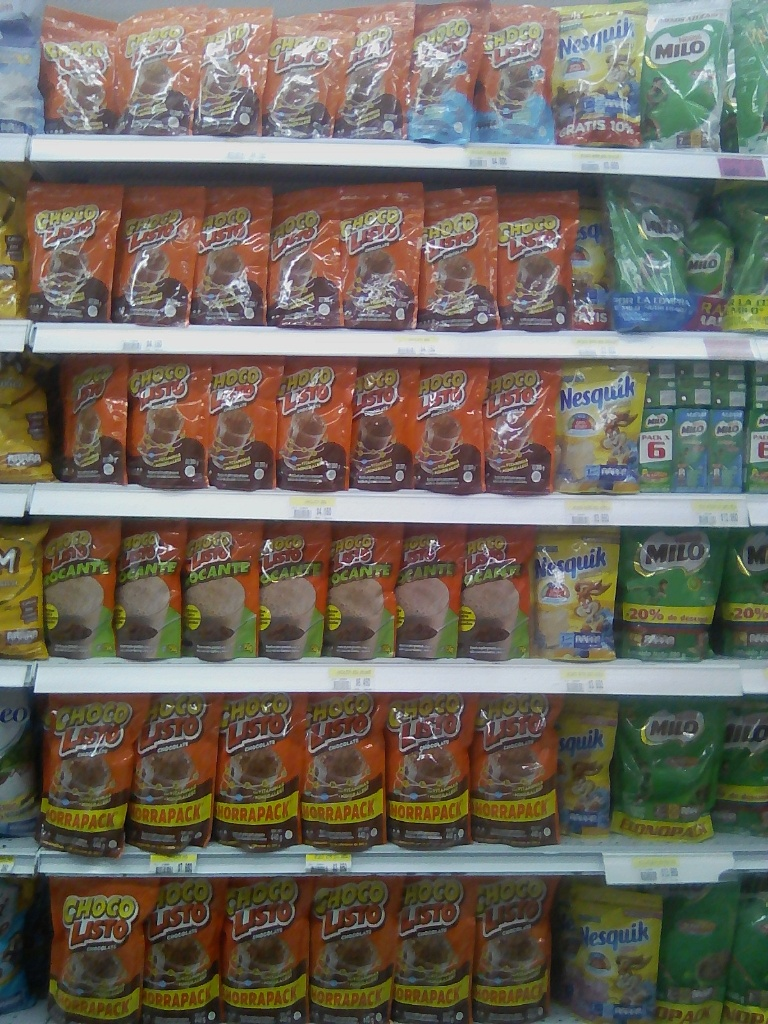COL0170103DYP44000: (43, 871, 143, 1022)
COL0170104DYP20000: (472, 1, 562, 149)
COL0170203DYP50000: (611, 515, 724, 670)
COL0170205DYP50000: (640, 0, 739, 158)
COL0170306DYP20000: (554, 350, 647, 503)
